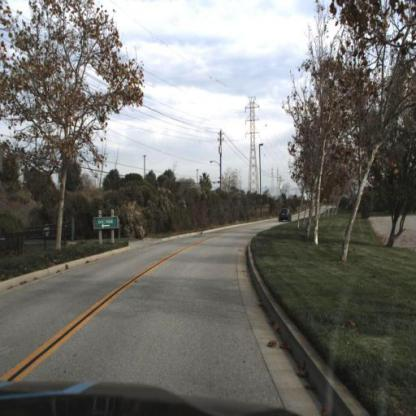car: (277, 206, 294, 226)
